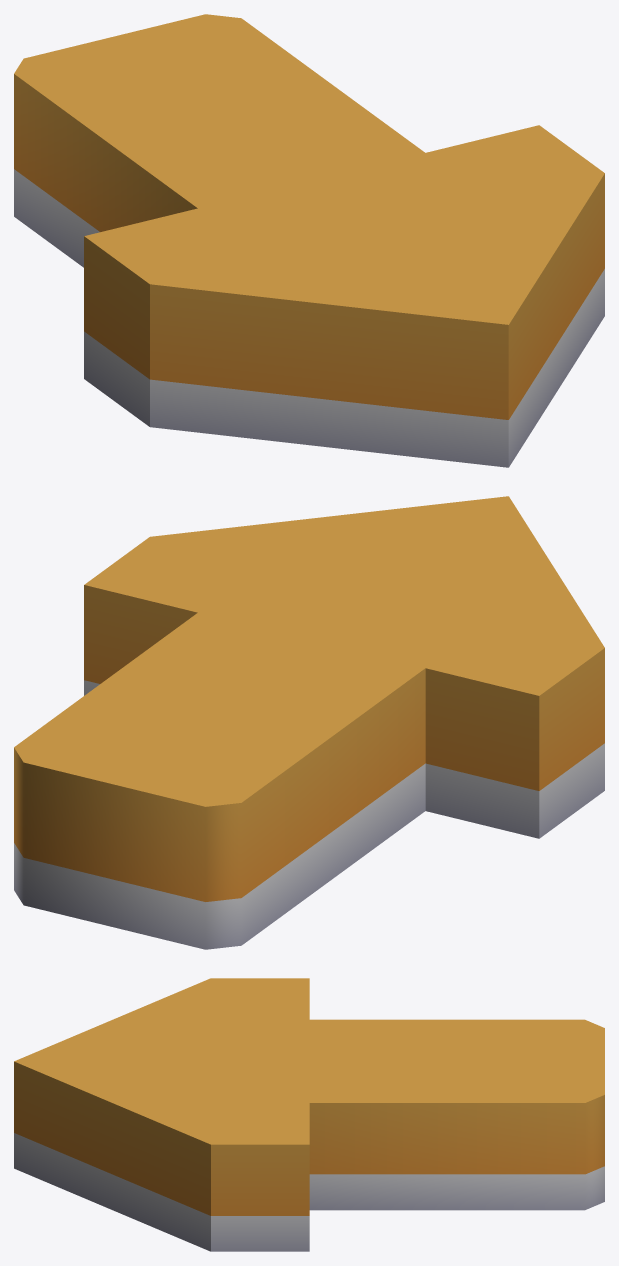
File: arrow.glb
3 renders of one model, top to bottom at view 1: azimuth 30°, elevation 25°; view 2: azimuth 150°, elevation 25°; view 3: azimuth 270°, elevation 25°, orthographic. The views are drawn at different scales.
Visible parts, largest first — view 1: arrow; view 2: arrow; view 3: arrow.
Part boxes in pixels (x1,y1,x2,y2): arrow: (14, 14, 604, 467); arrow: (14, 496, 604, 949); arrow: (14, 978, 604, 1251).
Bounding box in the file's own units: 2 × 0.6 × 3.
